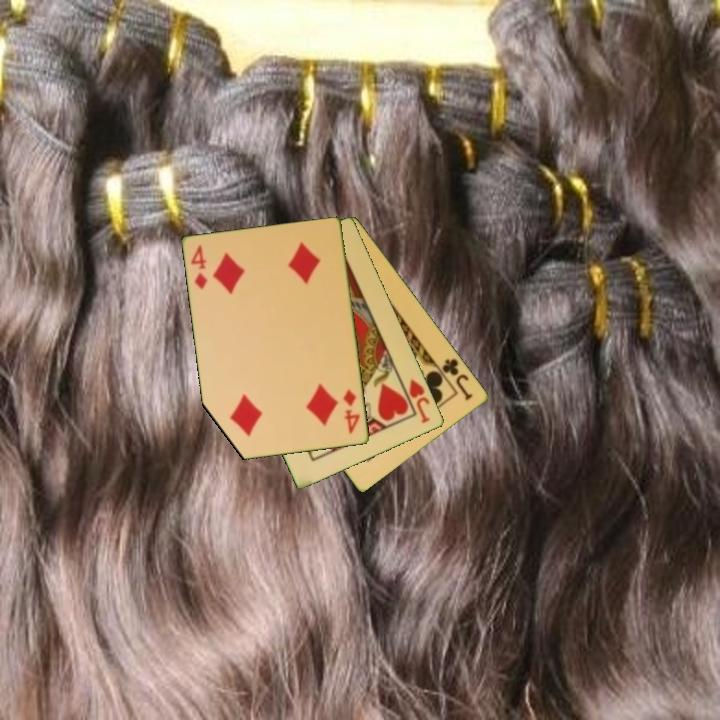4d: (340, 386, 363, 437), (187, 242, 210, 292)
Jc: (434, 355, 476, 403)
Jh: (397, 375, 433, 426)
